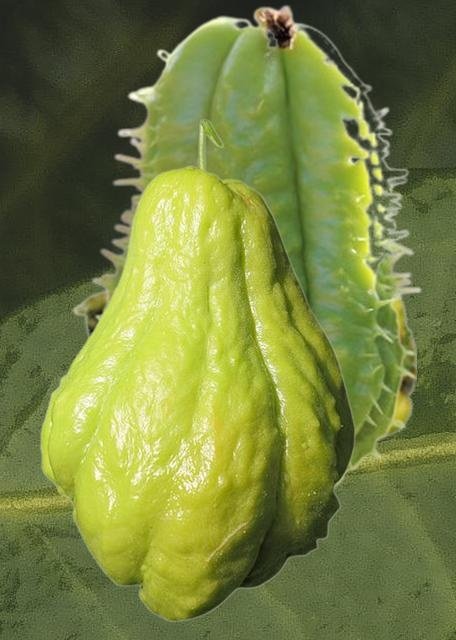sayote: (87, 3, 421, 490), (39, 118, 355, 621), (71, 288, 415, 443)
